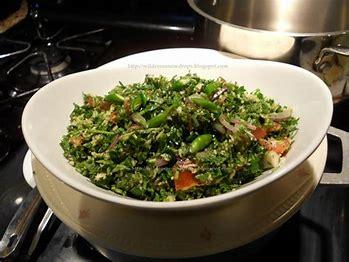Gotukola Mallum: (63, 63, 289, 203)
